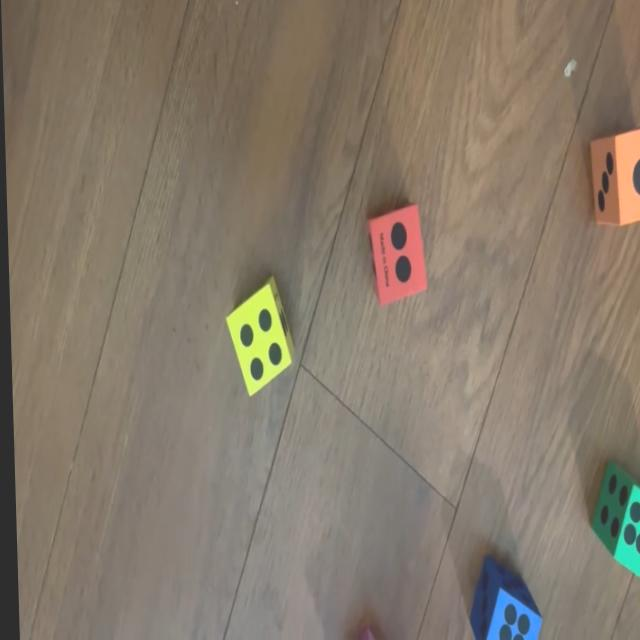cube: (587, 461, 640, 587), (365, 206, 426, 307), (465, 558, 537, 640)
